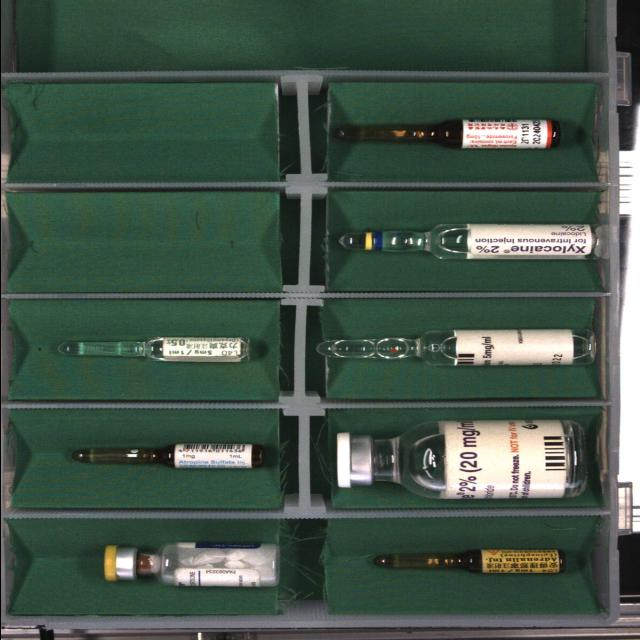Vials: (336, 420, 585, 499), (103, 542, 279, 587)
